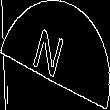N_S: (35, 24, 75, 86)
